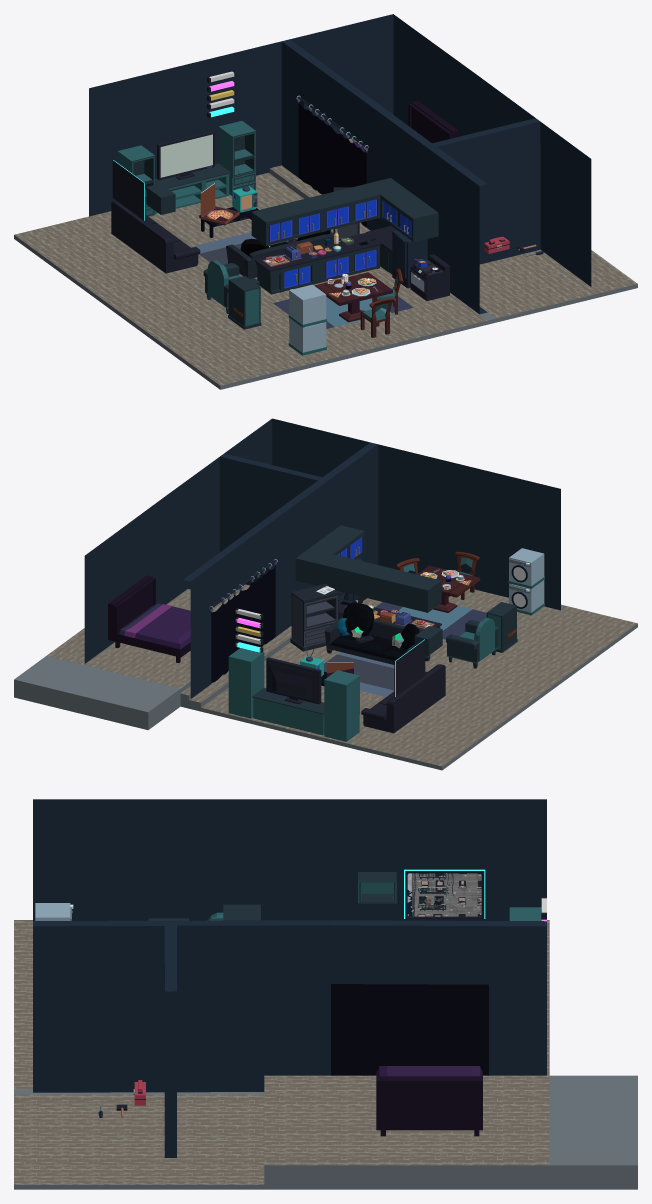
File: INT_Apartment003.fbx
The picture shows the model from 3 angles, top to bottom: view 1: azimuth 30°, elevation 25°; view 2: azimuth 150°, elevation 25°; view 3: azimuth 270°, elevation 25°; orthographic projection. The views are drawn at different scales.
Parts seen in each view (by area): view 1: Cube.1127, Cube.1126, Cube.1144, Plane.003, Cube.232, Cube.1446, Cube.235, Cube.248, Cube.245, Cube.240, Cube.239, Cube.607 (+16 smaller); view 2: Cube.1127, Cube.1126, Cube.1144, Cube.210, Plane.003, Cube.240, Cube.1446, Cube.205, Cube.1368, Cube.245, Cube.235, Cube.248 (+10 smaller); view 3: Cube.1127, Cube.1126, Plane.003, Cube.210, Cube.1445, Cube.236, Dryers.006, Cube.1144.
Part boxes in pixels (x1,y1,x2,y2): Cube.1127: [89, 14, 591, 314]; Cube.1126: [14, 138, 637, 389]; Cube.1144: [251, 178, 438, 245]; Plane.003: [298, 103, 366, 226]; Cube.232: [254, 232, 381, 294]; Cube.1446: [111, 200, 200, 273]; Cube.235: [218, 121, 256, 195]; Cube.248: [157, 130, 214, 180]; Cube.245: [155, 163, 230, 213]; Cube.240: [226, 230, 334, 278]; Cube.239: [228, 276, 261, 329]; Cube.607: [315, 272, 392, 322]; Cube.1127: [84, 418, 560, 698]; Cube.1126: [14, 584, 637, 770]; Cube.1144: [295, 525, 441, 612]; Cube.210: [108, 575, 190, 662]; Plane.003: [211, 566, 275, 682]; Cube.240: [324, 602, 430, 664]; Cube.1446: [361, 664, 445, 733]; Cube.205: [290, 584, 338, 651]; Cube.1368: [324, 670, 359, 741]; Cube.245: [252, 688, 324, 735]; Cube.235: [228, 648, 264, 718]; Cube.248: [266, 657, 321, 704]; Cube.1127: [33, 799, 546, 1157]; Cube.1126: [14, 920, 637, 1189]; Plane.003: [331, 984, 488, 1075]; Cube.210: [376, 1066, 482, 1136]; Cube.1445: [404, 869, 485, 918]; Cube.236: [358, 872, 396, 903]; Dryers.006: [35, 903, 73, 920]; Cube.1144: [223, 904, 260, 920].
Bounding box in the file's own units: 1989 × 610 × 1983.
